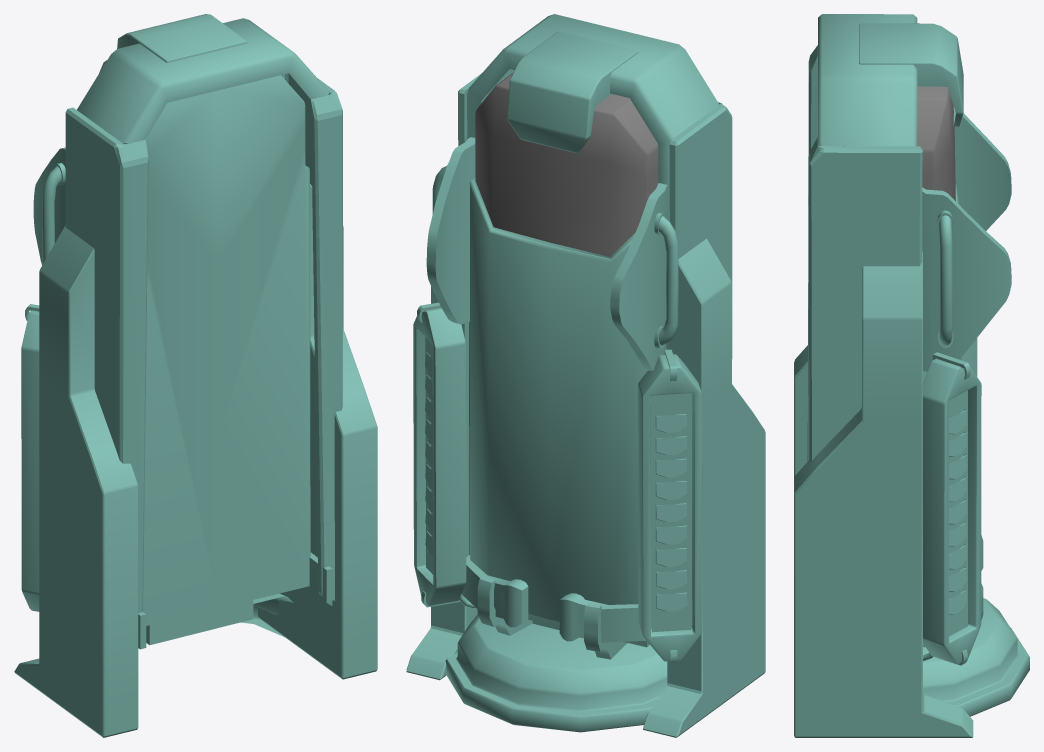
File: Capsula_Low_Desatachada.fbx
The picture shows the model from 3 angles, left to right: view 1: azimuth 30°, elevation 25°; view 2: azimuth 150°, elevation 25°; view 3: azimuth 270°, elevation 25°; orthographic projection.
Parts seen in each view (by area): view 1: Object003; view 2: Object003, Cristal; view 3: Object003, Cristal.
Boxes of the visible parts, x1,y1,x2,y2 form: Object003: (14,14,377,737); Object003: (406,14,765,737); Cristal: (475,73,658,256); Object003: (794,14,1029,737); Cristal: (842,86,955,200).
Bounding box in the file's own units: 176 × 366 × 124.
